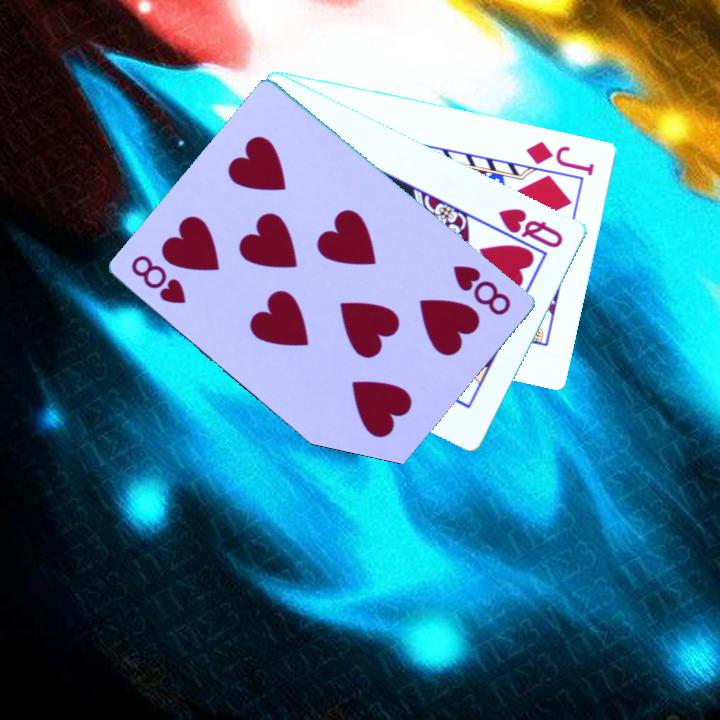8h: (450, 261, 515, 319), (128, 251, 190, 307)
Jd: (519, 137, 598, 180)
Qh: (495, 204, 567, 251)
